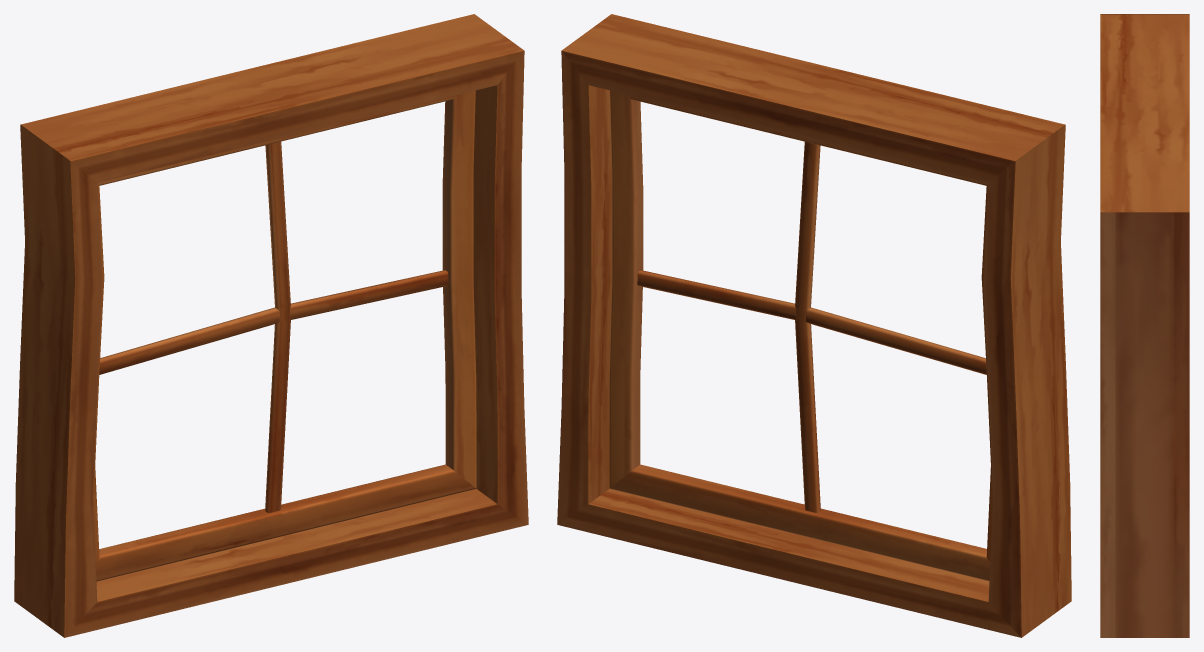
Rendered from PropWindow01TypeC_2_1.FBX.
The picture shows the model from 3 angles, left to right: view 1: azimuth 30°, elevation 25°; view 2: azimuth 150°, elevation 25°; view 3: azimuth 270°, elevation 25°; orthographic projection. The views are drawn at different scales.
Parts seen in each view (by area): view 1: PropWindow01TypeC_2_1; view 2: PropWindow01TypeC_2_1; view 3: PropWindow01TypeC_2_1.
Part boxes in pixels (box(x1,y1,x2,y2)): PropWindow01TypeC_2_1: box(14, 14, 528, 637); PropWindow01TypeC_2_1: box(557, 14, 1071, 637); PropWindow01TypeC_2_1: box(1100, 14, 1189, 637).
Size of what is drawn, in the model's own units: 1.63 by 1.6 by 0.3049.
